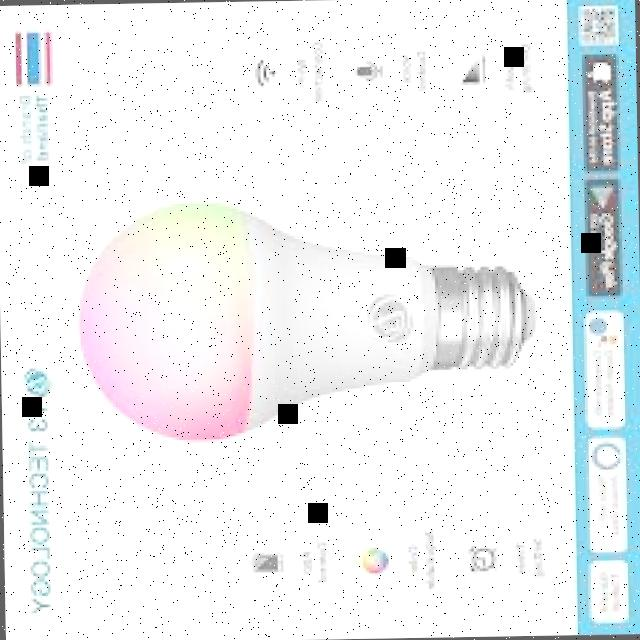light_bulb: (59, 176, 544, 456)
